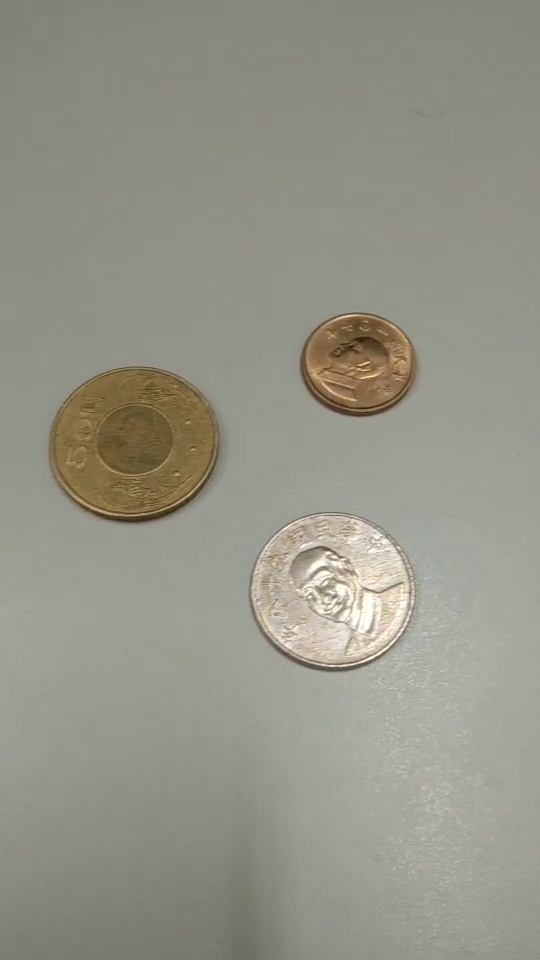NT$ 1: (301, 310, 416, 417)
NT$ 10: (250, 512, 415, 674)
NT$ 50: (50, 364, 220, 523)
